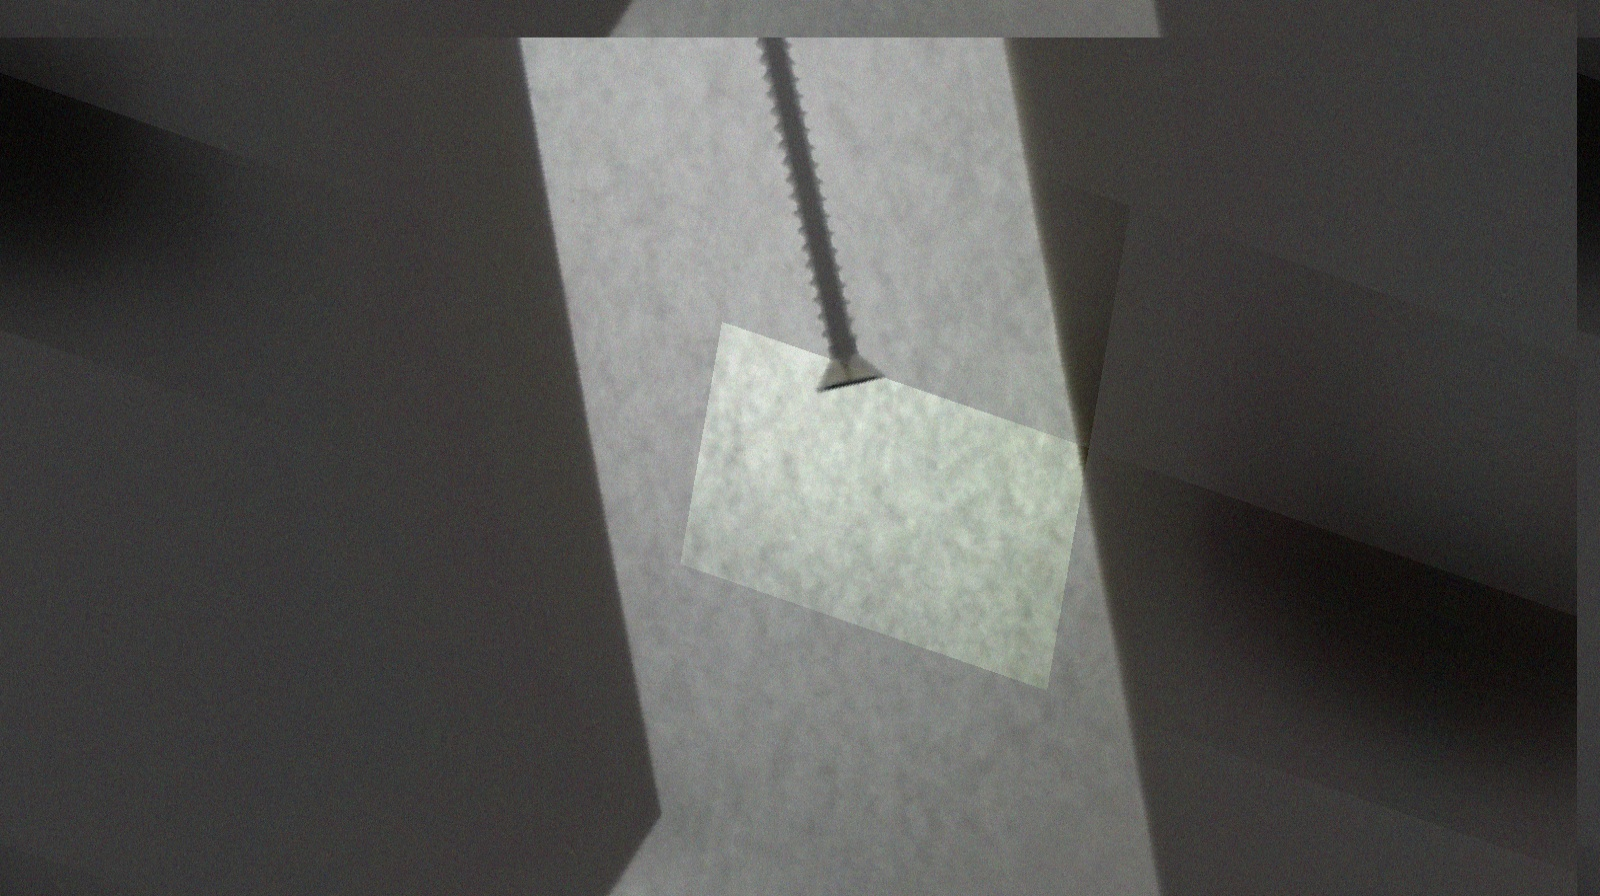S002: (665, 0, 964, 432)
